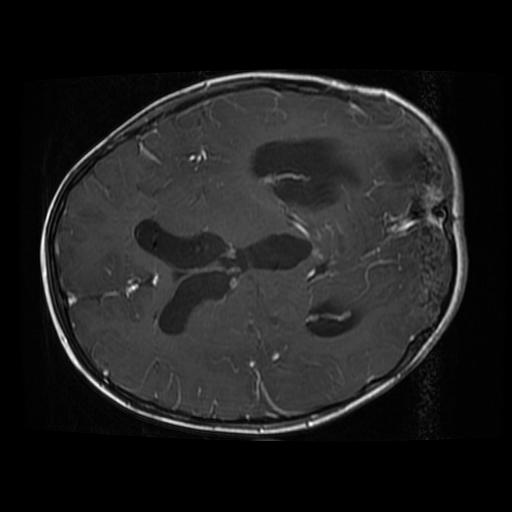glioma: (251, 129, 370, 213)
